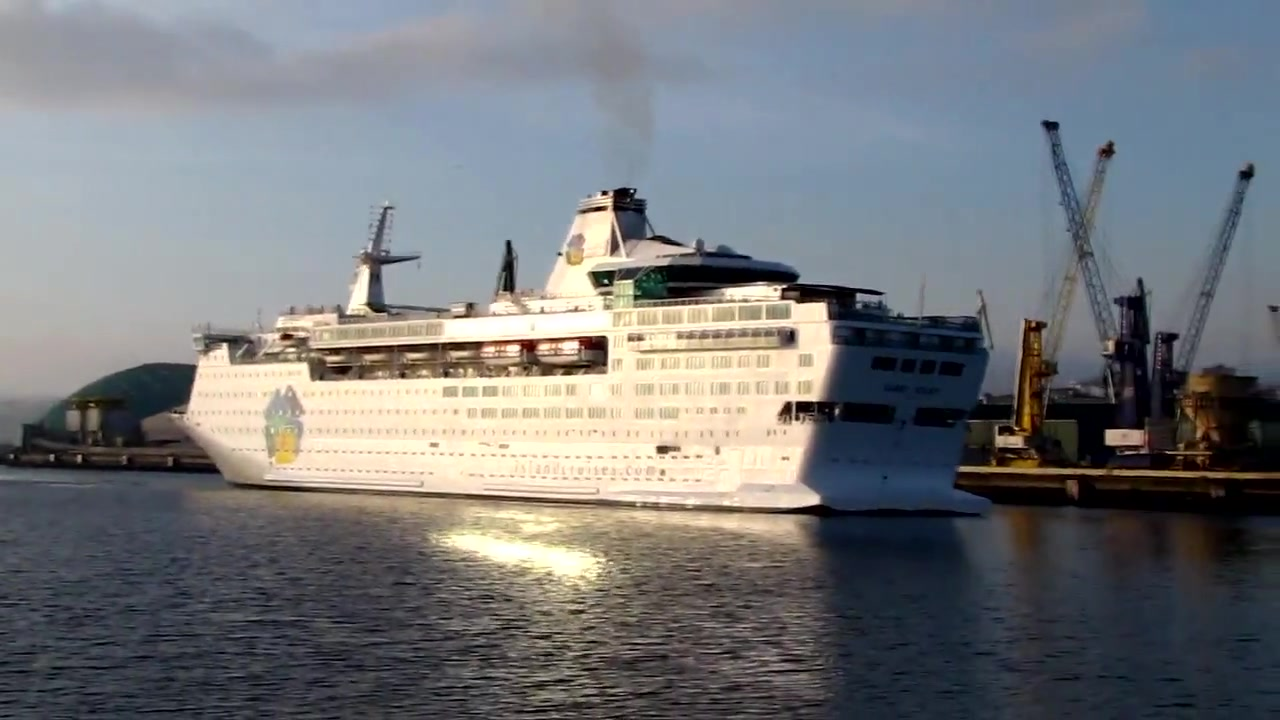boat: (165, 186, 1001, 519)
